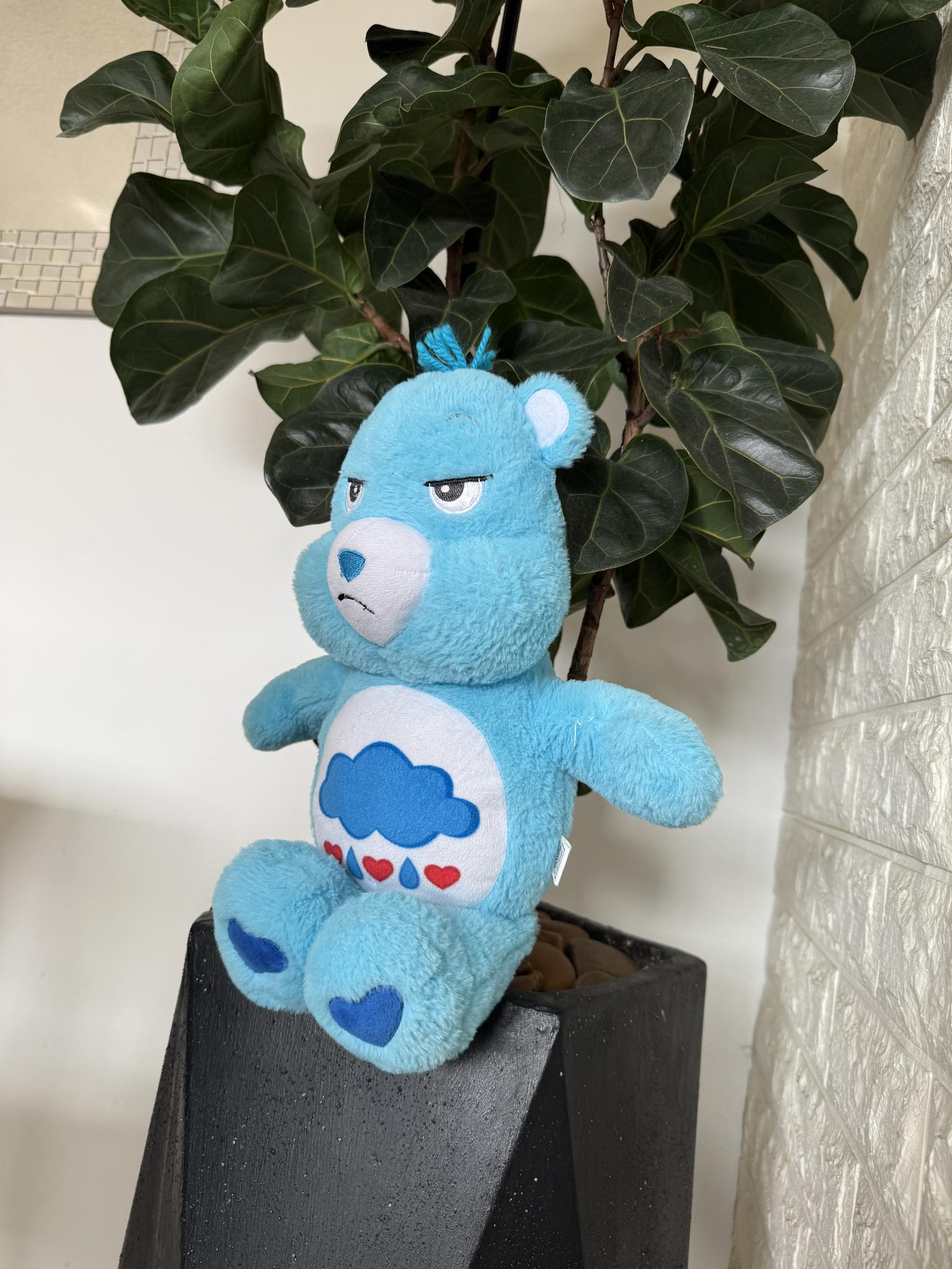peluche_Juan Jose: (210, 321, 724, 1077)
